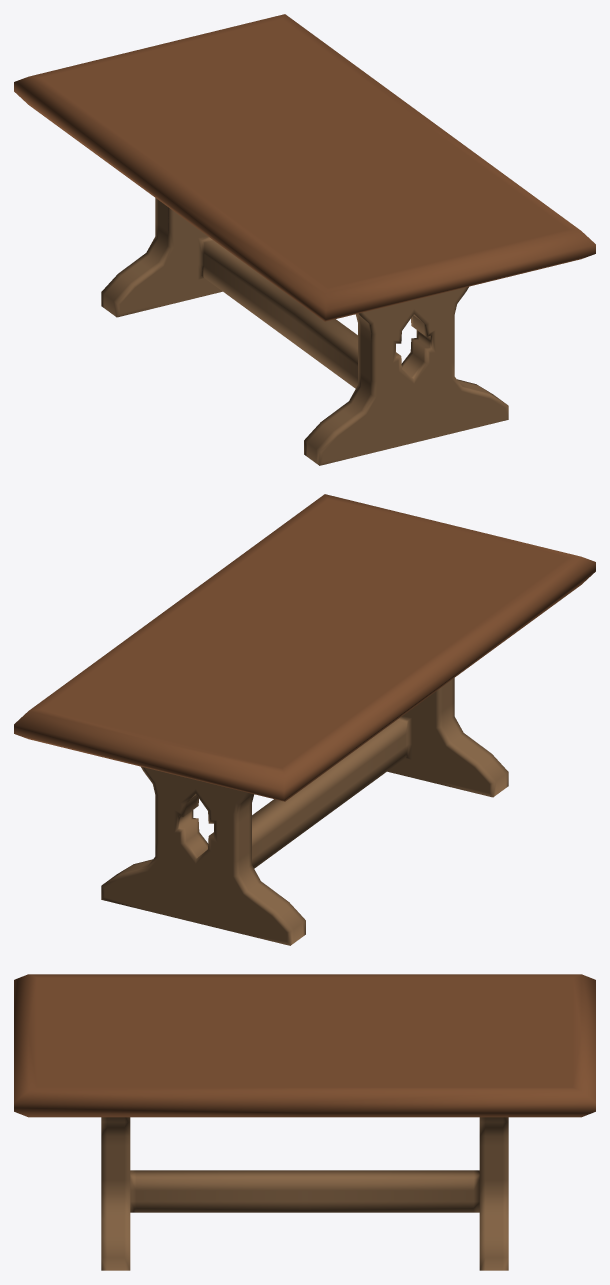
File: Table2.fbx
3 renders of one model, top to bottom at view 1: azimuth 30°, elevation 25°; view 2: azimuth 150°, elevation 25°; view 3: azimuth 270°, elevation 25°, orthographic. The views are drawn at different scales.
Visible parts, largest first — view 1: Cube; view 2: Cube; view 3: Cube.
Boxes of the visible parts, x1,y1,x2,y2 form: Cube: (14,14,595,465); Cube: (14,494,595,945); Cube: (14,974,595,1270).
Size of the model in its own units: 100 by 74 by 200.
